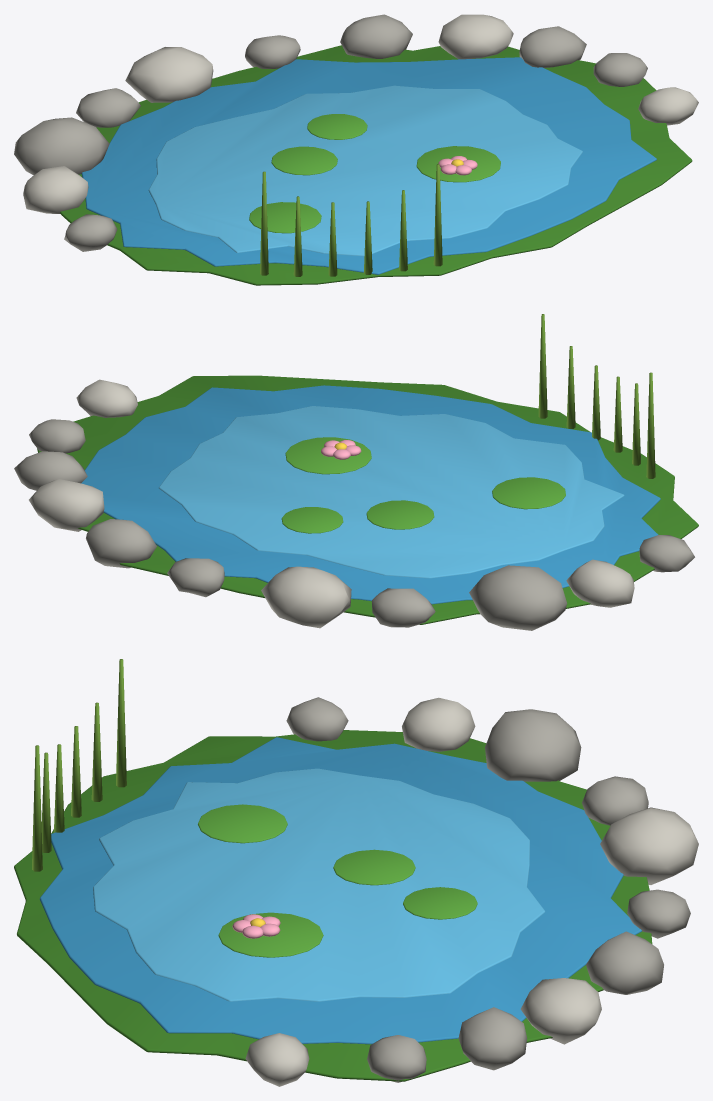
The model's file is Pond.fbx.
The picture shows the model from 3 angles, top to bottom: view 1: azimuth 30°, elevation 25°; view 2: azimuth 150°, elevation 25°; view 3: azimuth 270°, elevation 25°; orthographic projection. The views are drawn at different scales.
Parts seen in each view (by area): view 1: Pond; view 2: Pond; view 3: Pond.
Boxes of the visible parts, x1,y1,x2,y2 form: Pond: (14, 14, 698, 285); Pond: (14, 314, 698, 630); Pond: (14, 659, 698, 1086).
Size of the model in its own units: 4.65 by 0.8325 by 3.64.
1 material, 1 textured.
